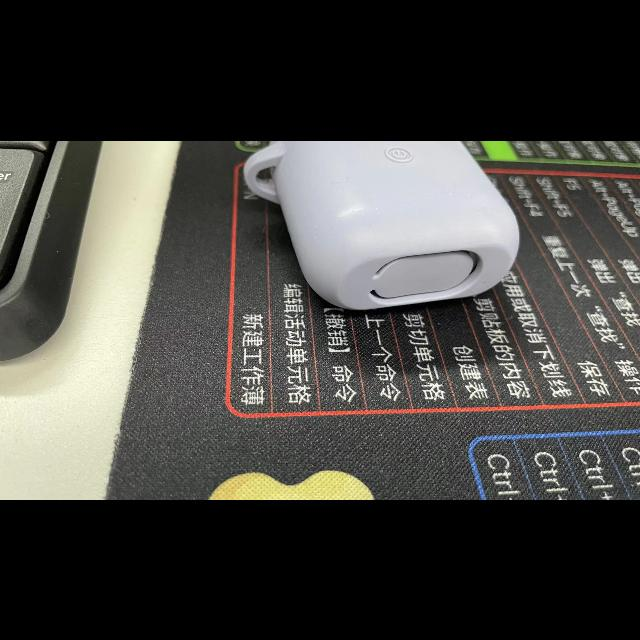airpods: (243, 140, 518, 310)
